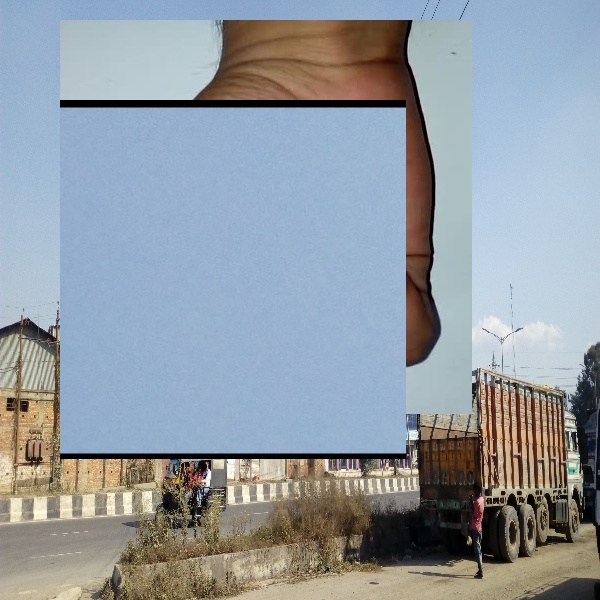A: (60, 100, 406, 459)
